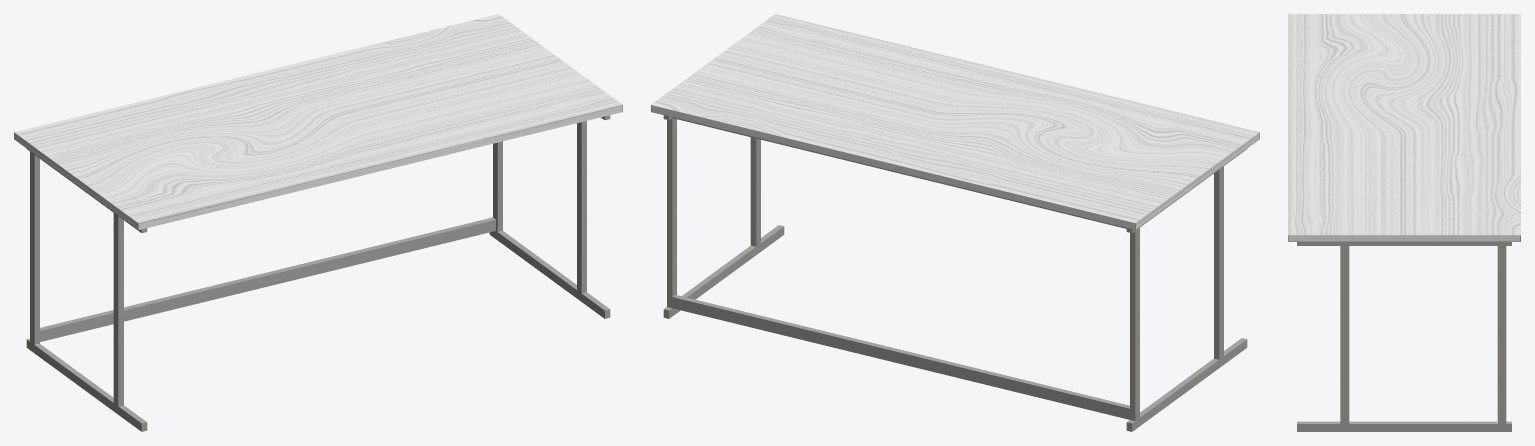
The model's file is table_180.dae.
3 views of the same model, side by side, from view 1: azimuth 30°, elevation 25°; view 2: azimuth 150°, elevation 25°; view 3: azimuth 270°, elevation 25° (orthographic). The views are drawn at different scales.
Parts seen in each view (by area): view 1: Stul_180 v2; view 2: Stul_180 v2; view 3: Stul_180 v2.
Part boxes in pixels (x1,y1,x2,y2): Stul_180 v2: (14, 14, 622, 431); Stul_180 v2: (651, 14, 1259, 431); Stul_180 v2: (1288, 14, 1520, 431).
Bounding box in the file's own units: 1.8 × 0.8 × 0.76.
Materials: 1 (1 with a texture image).
